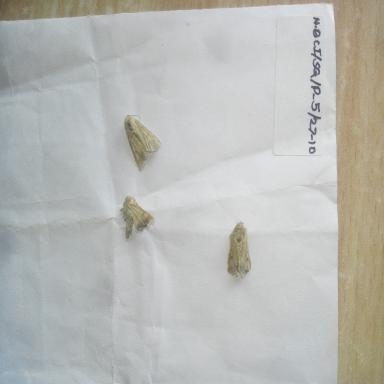abw: (121, 105, 165, 176), (110, 186, 156, 242), (222, 218, 256, 282)
